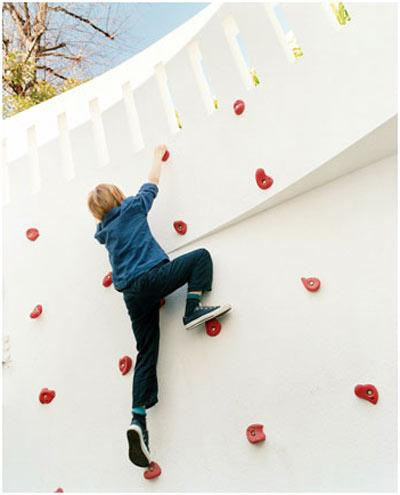person: (86, 143, 233, 469)
